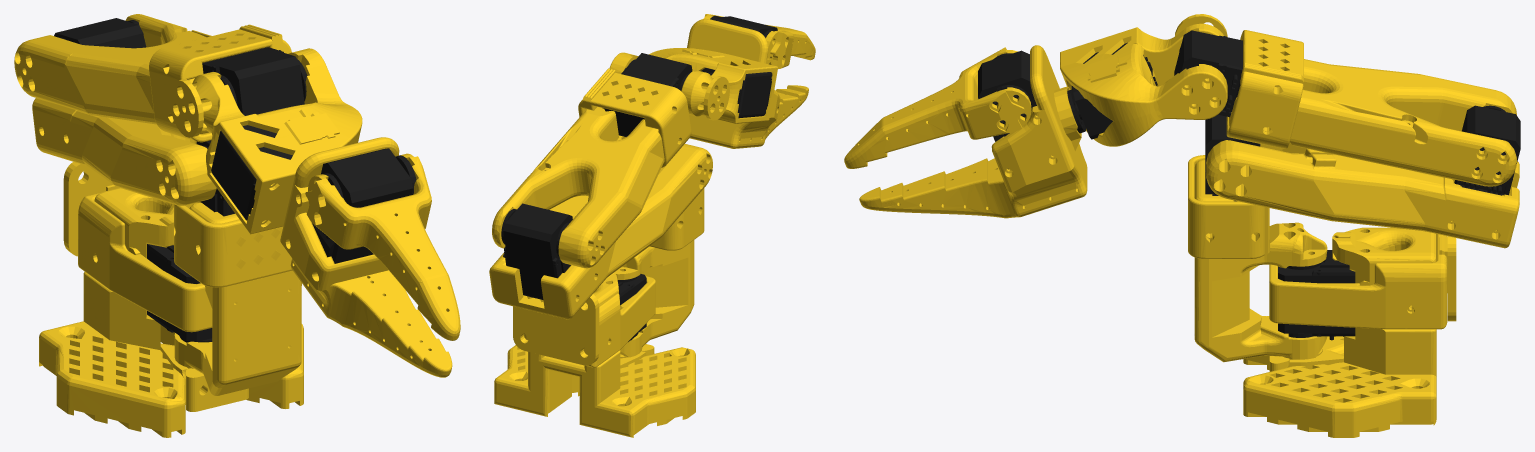
3 renders of one model, left to right at view 1: azimuth 30°, elevation 25°; view 2: azimuth 150°, elevation 25°; view 3: azimuth 270°, elevation 25°, orthographic. The views are drawn at different scales.
Parts seen in each view (by area): view 1: base, lower_arm, shoulder, gripper, wrist, upper_arm, jaw; view 2: base, lower_arm, upper_arm, wrist, shoulder, gripper, jaw; view 3: base, lower_arm, upper_arm, gripper, shoulder, wrist, jaw.
Part boxes in pixels (x1,y1,x2,y2): base: (39, 162, 303, 437); lower_arm: (14, 14, 307, 142); shoulder: (174, 140, 301, 395); gripper: (280, 137, 452, 377); wrist: (169, 48, 362, 234); upper_arm: (32, 18, 216, 205); jaw: (305, 153, 460, 340); base: (494, 272, 695, 437); lower_arm: (492, 53, 692, 268); upper_arm: (489, 144, 712, 319); wrist: (609, 48, 777, 123); shoulder: (615, 188, 704, 358); gripper: (687, 15, 808, 148); jaw: (703, 14, 815, 68); base: (1243, 227, 1456, 437); lower_arm: (1174, 30, 1516, 186); upper_arm: (1206, 105, 1520, 248); gripper: (859, 45, 1087, 218); shoulder: (1188, 115, 1327, 362); wrist: (1060, 14, 1227, 146); jaw: (844, 47, 1031, 168).
Size of the model in its own units: 0.1109 by 0.1701 by 0.3046.
